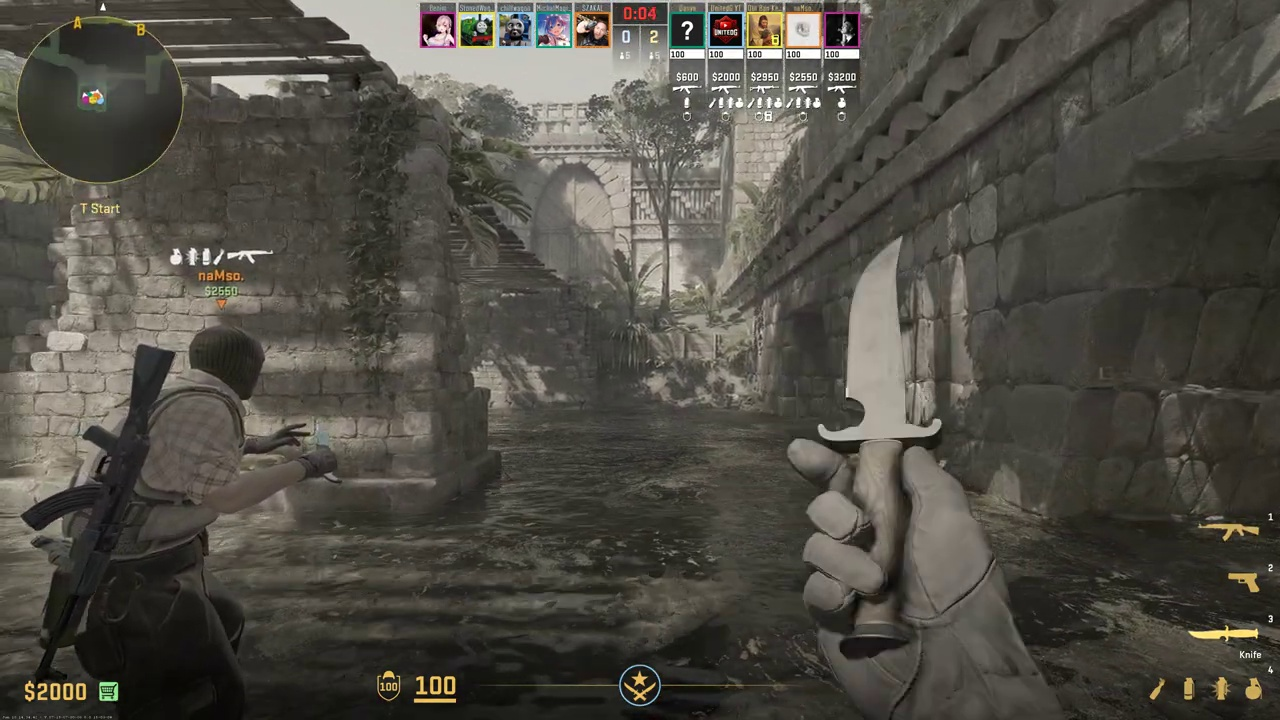Terrorist: (63, 325, 271, 719)
